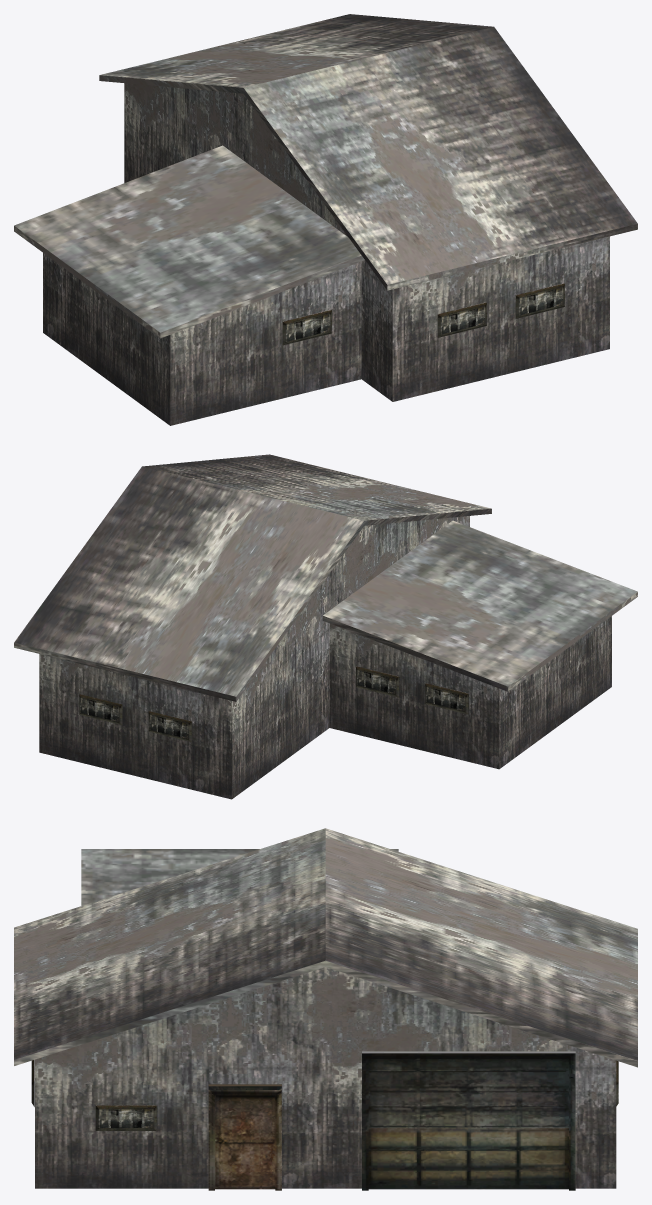
File: warehs09.glb
The picture shows the model from 3 angles, top to bottom: view 1: azimuth 30°, elevation 25°; view 2: azimuth 150°, elevation 25°; view 3: azimuth 270°, elevation 25°; orthographic projection. The views are drawn at different scales.
Visible parts, largest first — view 1: _warehs09; view 2: _warehs09; view 3: _warehs09.
Part boxes in pixels (<box>): _warehs09: <box>14,14,637,425</box>; _warehs09: <box>14,454,637,799</box>; _warehs09: <box>14,828,637,1190</box>.
Bounding box in the file's own units: 14.09 × 6.62 × 15.75.
1 material, 1 textured.
